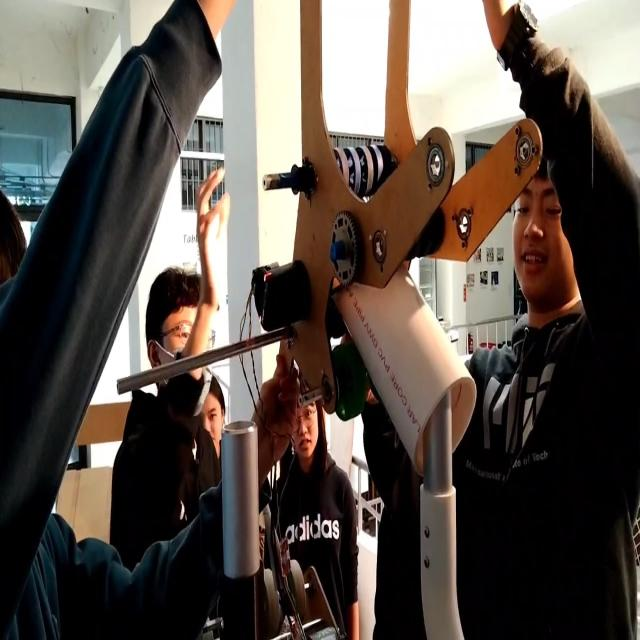CORAL: (332, 230, 478, 477)
